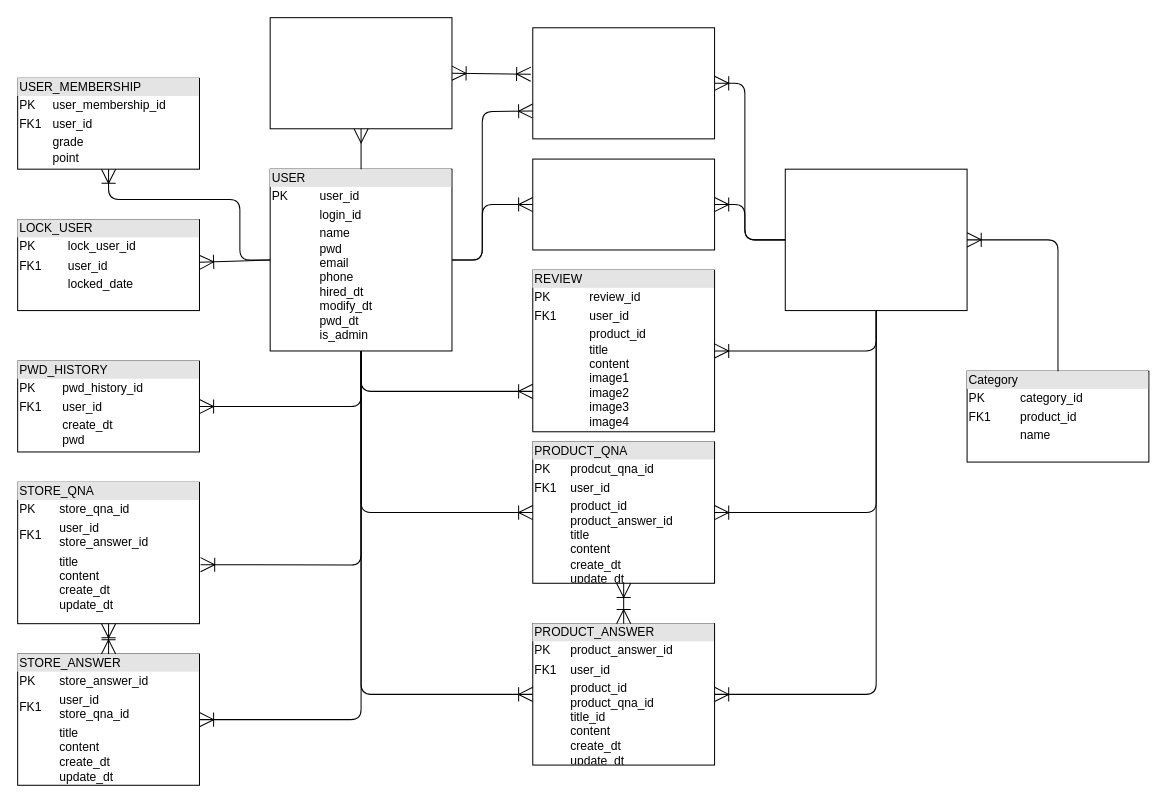
Some shapes in this 1167 by 803 pixel diagram are drawn without their labels. Here are the shapes that lost their labels. From the top down, the centre of each, then its label:
the point at 360,73: ADDRESS PK address_id FK user_id type address1 address2
the point at 623,83: ORDER PK order_id FK1 user_id product_id address_id total_price
the point at 623,204: CART PK cart_id FK1 user_id product_id total_price
the point at 875,239: PRODUCT PK product_id name product_image price description option1 option2
